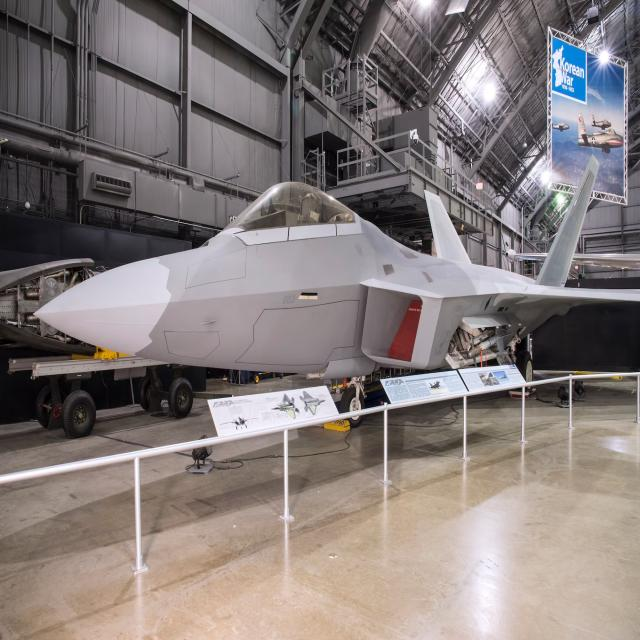F22: (20, 166, 640, 501)
